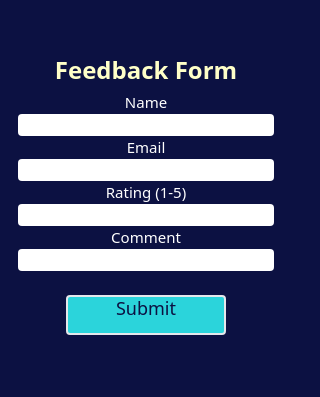
Validation › should display a required message if name field is left empty
Check: the field with test id "name" is empty, box [18,114,274,136]
Click the button.
click(146, 303)  # box [66,271,226,335]
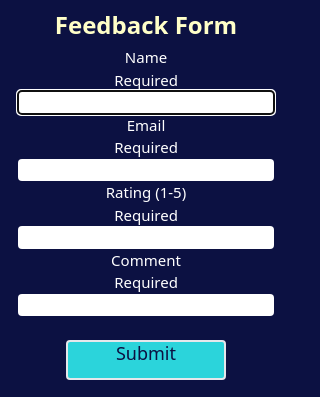
Check: the 1st text "Required" is shown, box [114,68,178,91]
